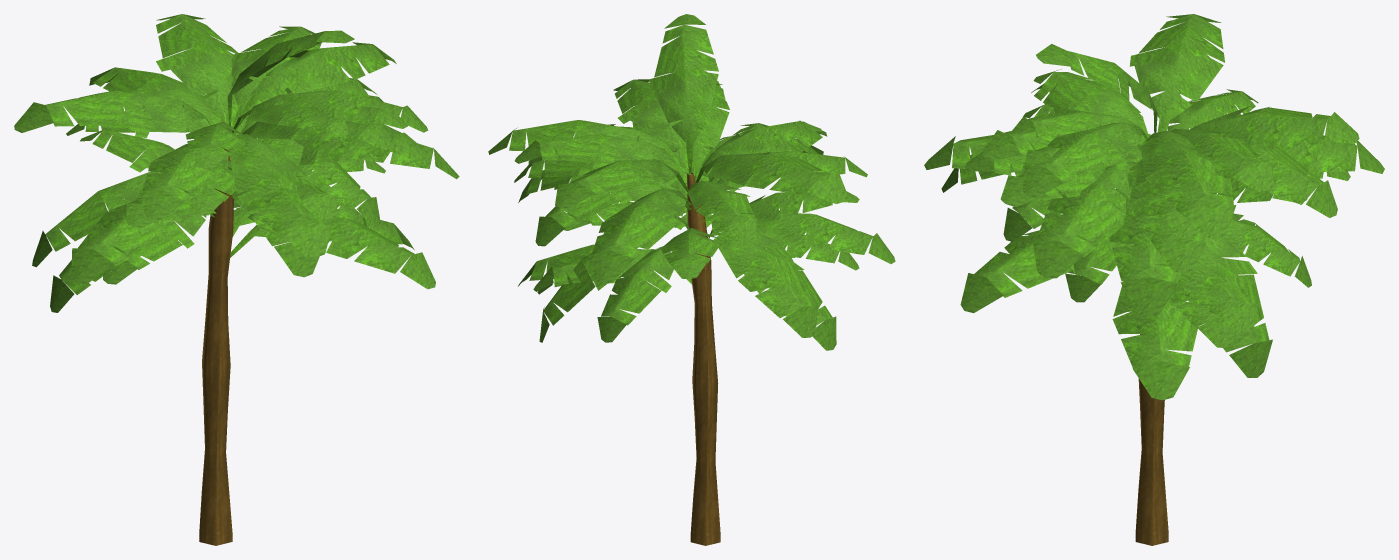
Rendered from tree.dae.
3 renders of one model, left to right at view 1: azimuth 30°, elevation 25°; view 2: azimuth 150°, elevation 25°; view 3: azimuth 270°, elevation 25°, orthographic. The views are drawn at different scales.
Parts seen in each view (by area): view 1: leaf34 (×37), stemslevel0; view 2: leaf34 (×38), stemslevel0; view 3: leaf34 (×46), stemslevel0.
Part boxes in pixels (<box>): leaf34 (×37): <box>14,14,435,312</box>; stemslevel0: <box>199,131,233,545</box>; leaf34 (×38): <box>509,24,873,350</box>; stemslevel0: <box>687,172,720,545</box>; leaf34 (×46): <box>952,14,1359,400</box>; stemslevel0: <box>1135,334,1168,545</box>.
Size of the model in its own units: 93.65 by 97.21 by 121.
3 materials, 3 textured.
